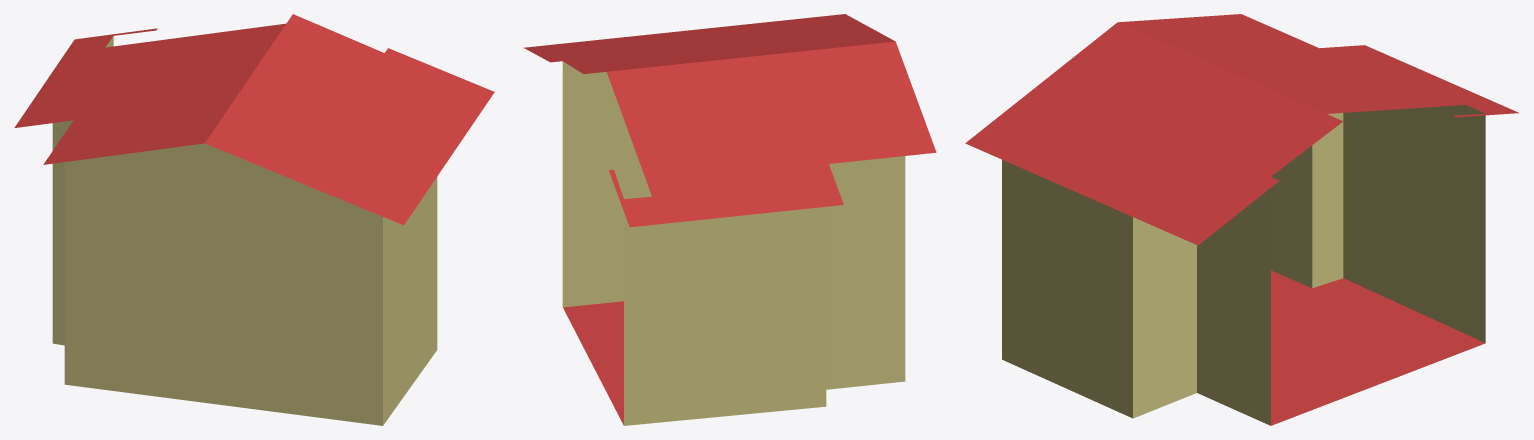
3 views of the same model, side by side, from view 1: azimuth 30°, elevation 25°; view 2: azimuth 150°, elevation 25°; view 3: azimuth 270°, elevation 25° (orthographic). The views are drawn at different scales.
Size of the model in its own units: 17.71 by 19.34 by 10.64.
